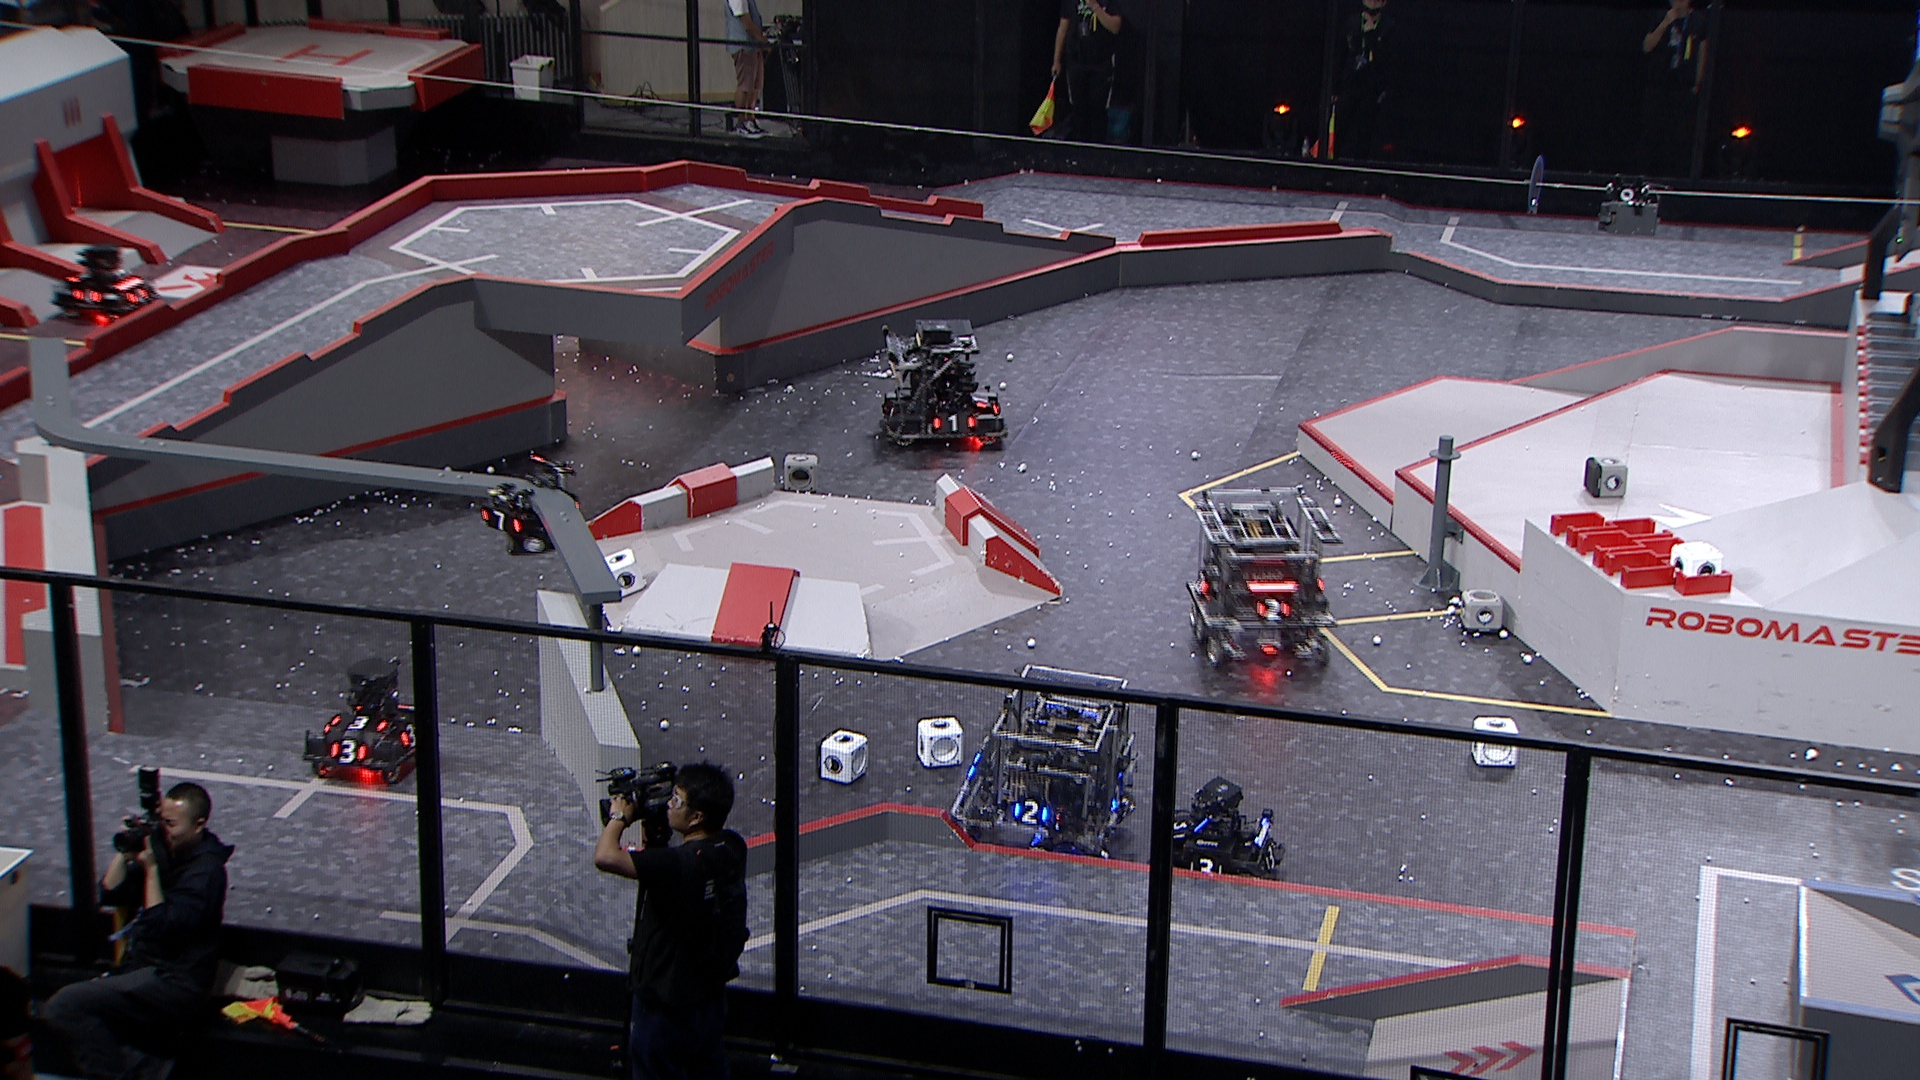armor: (477, 508, 524, 535), (327, 738, 368, 766), (1010, 800, 1051, 827), (332, 713, 386, 732), (930, 413, 977, 433), (1255, 599, 1295, 621), (1188, 858, 1229, 876), (71, 285, 105, 305), (1112, 770, 1126, 814), (400, 723, 419, 749), (127, 285, 149, 306), (1193, 572, 1211, 597), (1262, 845, 1278, 872), (1168, 820, 1188, 841), (884, 404, 899, 427), (969, 394, 992, 410)
car: (948, 666, 1141, 860), (1185, 484, 1346, 669), (1149, 775, 1291, 905), (299, 657, 429, 789), (878, 320, 1007, 450), (53, 243, 157, 320)
watcher: (477, 454, 583, 556)
